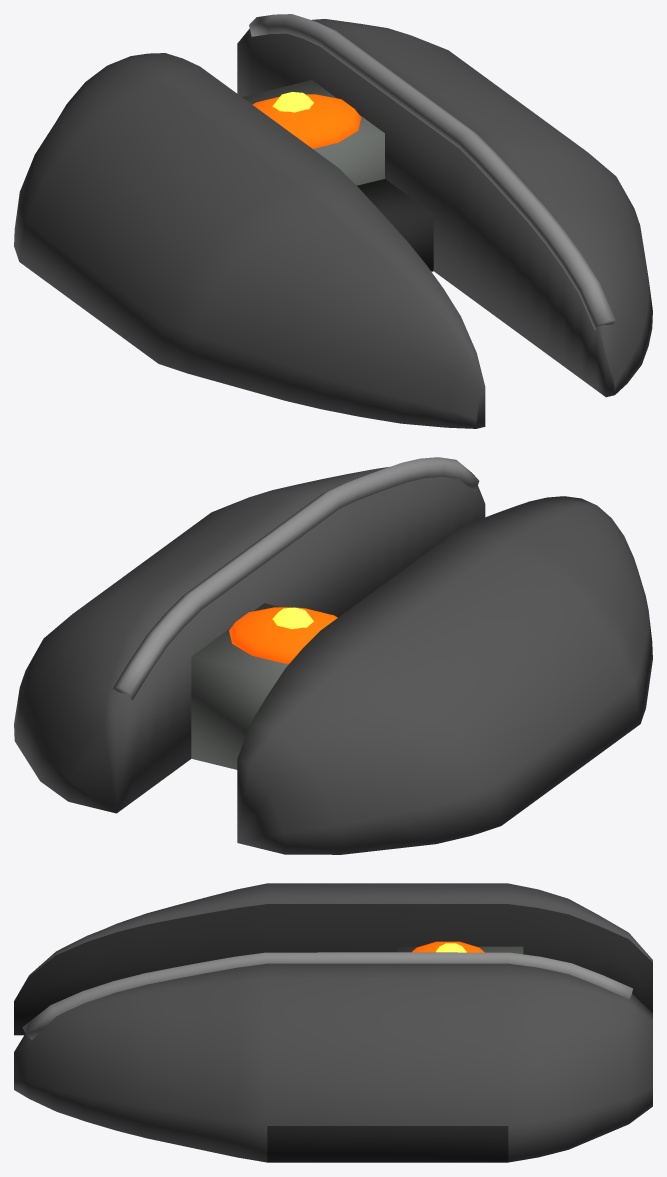
Rendered from newshd-157-f2.glb.
The picture shows the model from 3 angles, top to bottom: view 1: azimuth 30°, elevation 25°; view 2: azimuth 150°, elevation 25°; view 3: azimuth 270°, elevation 25°; orthographic projection. The views are drawn at different scales.
Visible parts, largest first — view 1: newshd-157-f2; view 2: newshd-157-f2; view 3: newshd-157-f2.
Part boxes in pixels (x1,y1,x2,y2): newshd-157-f2: (14,14,652,428); newshd-157-f2: (14,457,652,854); newshd-157-f2: (14,883,652,1162).
Size of the model in its own units: 1.33 by 0.418 by 1.77.
